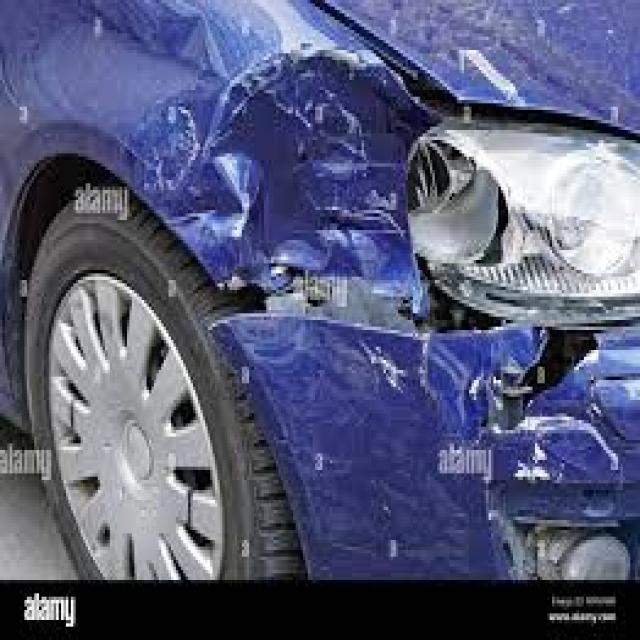damaged-head-light: (417, 114, 640, 332)
